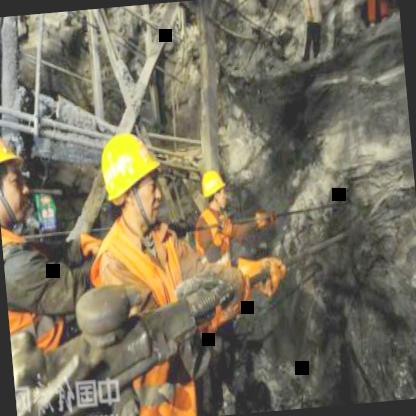helmet: (90, 127, 165, 233), (0, 118, 29, 226), (197, 165, 231, 218)
